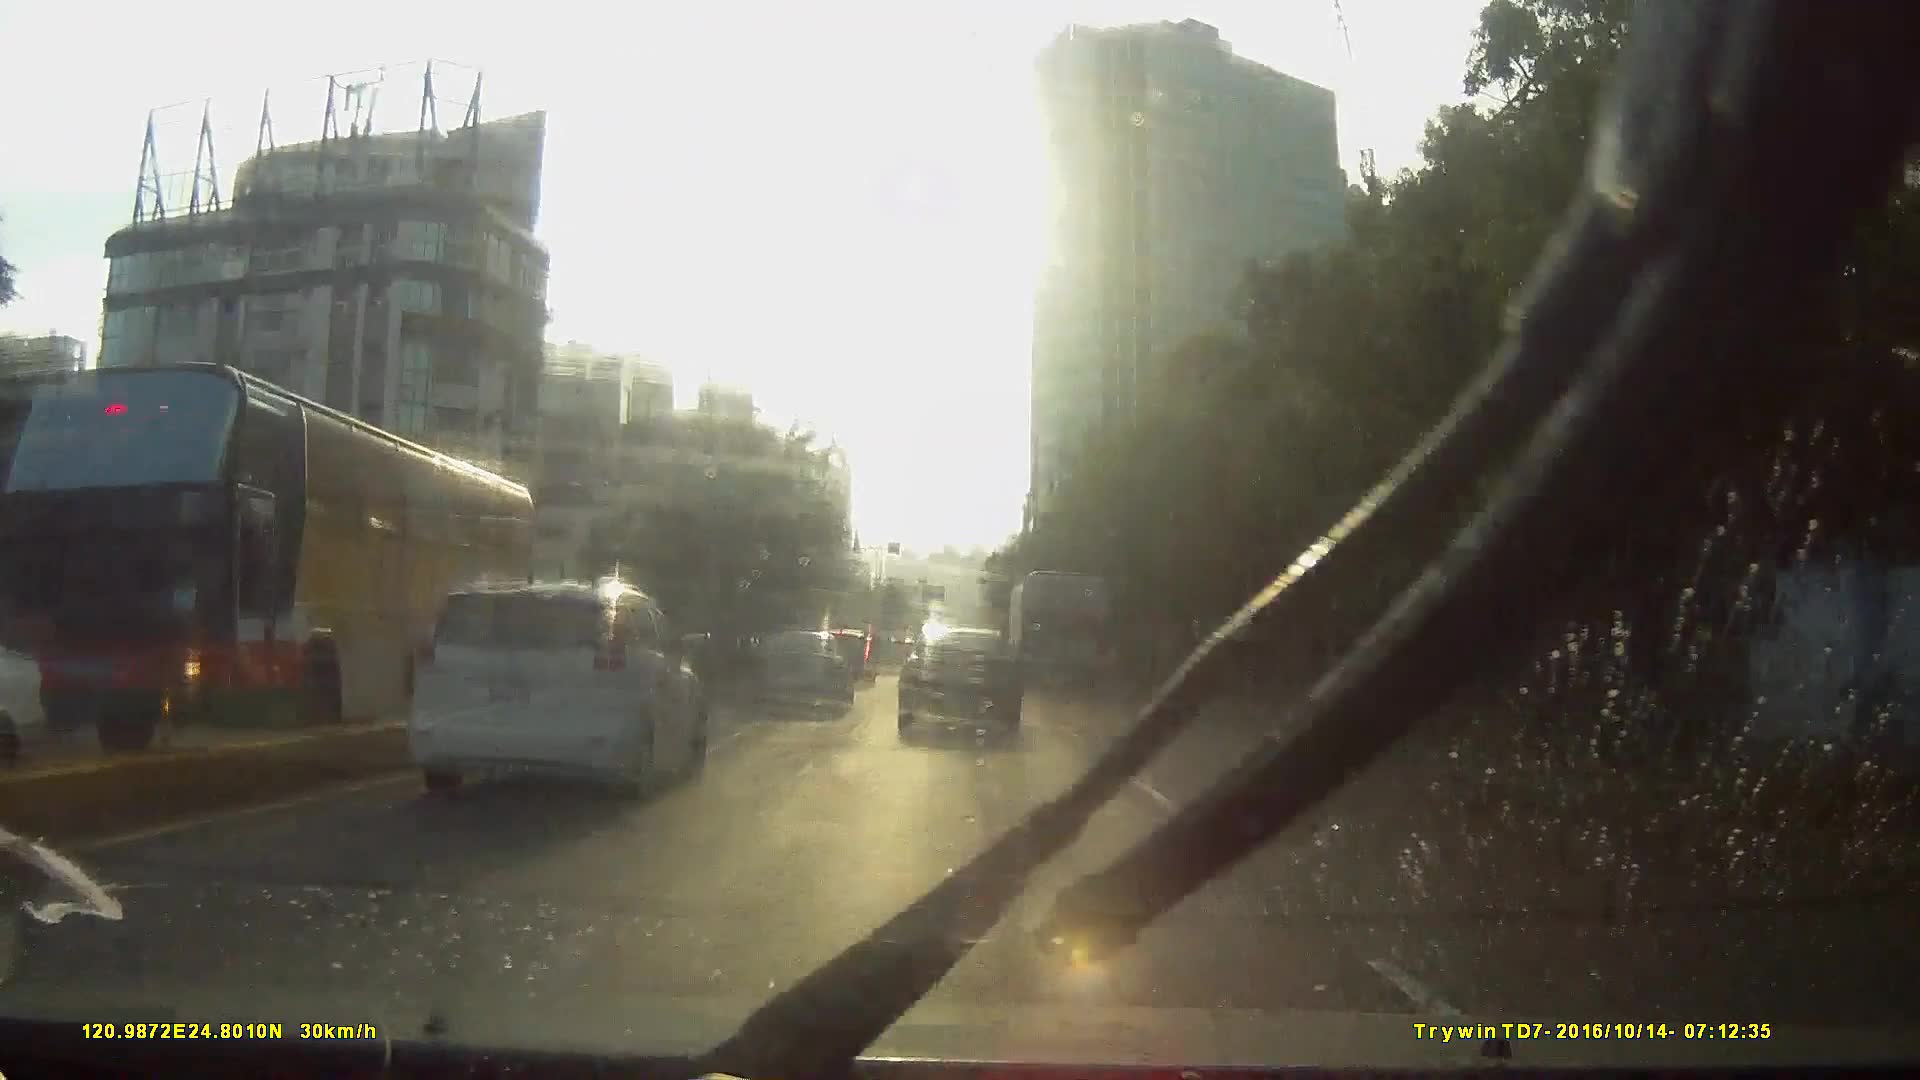vehicle: (3, 353, 543, 769), (251, 556, 684, 868), (409, 568, 705, 799), (894, 620, 1021, 733), (1007, 566, 1112, 692), (746, 626, 855, 713), (866, 638, 915, 687)
